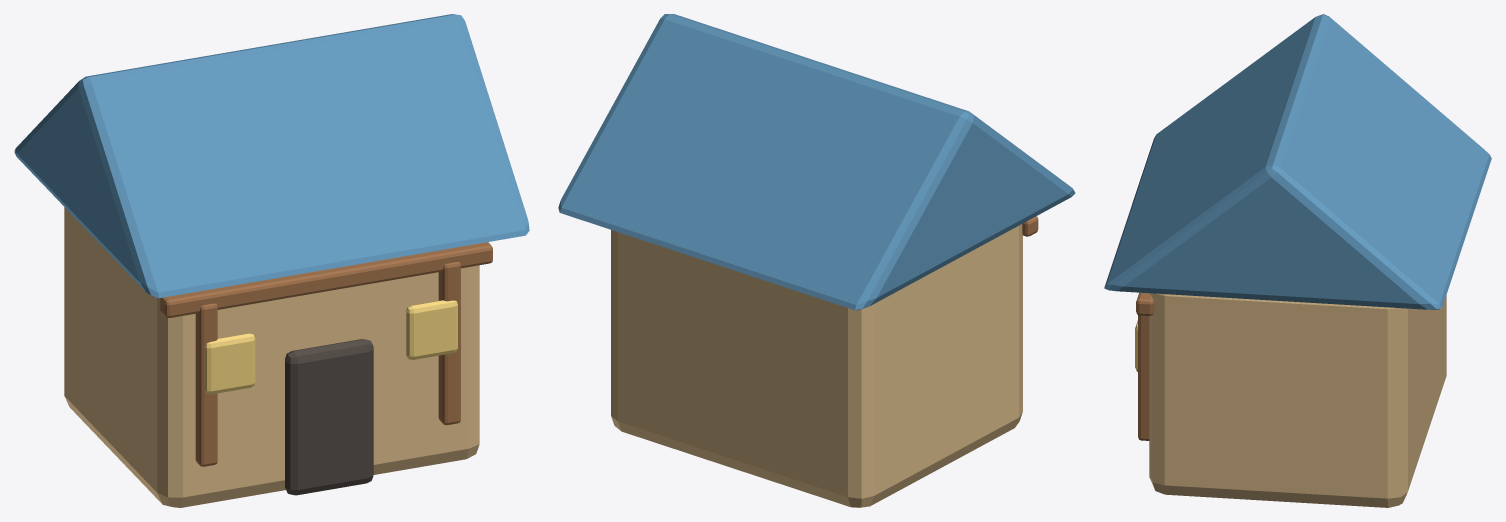
File: building_cottage_c.glb
The picture shows the model from 3 angles, left to right: view 1: azimuth 30°, elevation 25°; view 2: azimuth 150°, elevation 25°; view 3: azimuth 270°, elevation 25°; orthographic projection. The views are drawn at different scales.
Visible parts, largest first — view 1: Cottage_C_Roof.001, Cottage_C_House.001, Cottage_C_Door.001, Cottage_C_BeamTop.001, Cottage_C_BeamL.001, Cottage_C_WindowR.001, Cottage_C_WindowL.001, Cottage_C_BeamR.001; view 2: Cottage_C_Roof.001, Cottage_C_House.001; view 3: Cottage_C_Roof.001, Cottage_C_House.001, Cottage_C_BeamR.001.
Part boxes in pixels (bbox=[...]): Cottage_C_Roof.001: bbox=[14, 14, 529, 298]; Cottage_C_House.001: bbox=[64, 207, 479, 507]; Cottage_C_Door.001: bbox=[285, 339, 373, 495]; Cottage_C_BeamTop.001: bbox=[160, 242, 492, 317]; Cottage_C_BeamL.001: bbox=[195, 303, 217, 466]; Cottage_C_WindowR.001: bbox=[406, 300, 457, 359]; Cottage_C_WindowL.001: bbox=[205, 333, 255, 394]; Cottage_C_BeamR.001: bbox=[438, 262, 460, 425]; Cottage_C_Roof.001: bbox=[558, 14, 1075, 310]; Cottage_C_House.001: bbox=[611, 224, 1022, 507]; Cottage_C_Roof.001: bbox=[1104, 14, 1491, 309]; Cottage_C_House.001: bbox=[1149, 293, 1446, 507]; Cottage_C_BeamR.001: bbox=[1138, 315, 1149, 440].
Bounding box in the file's own units: 2.31 × 2.16 × 2.15.
